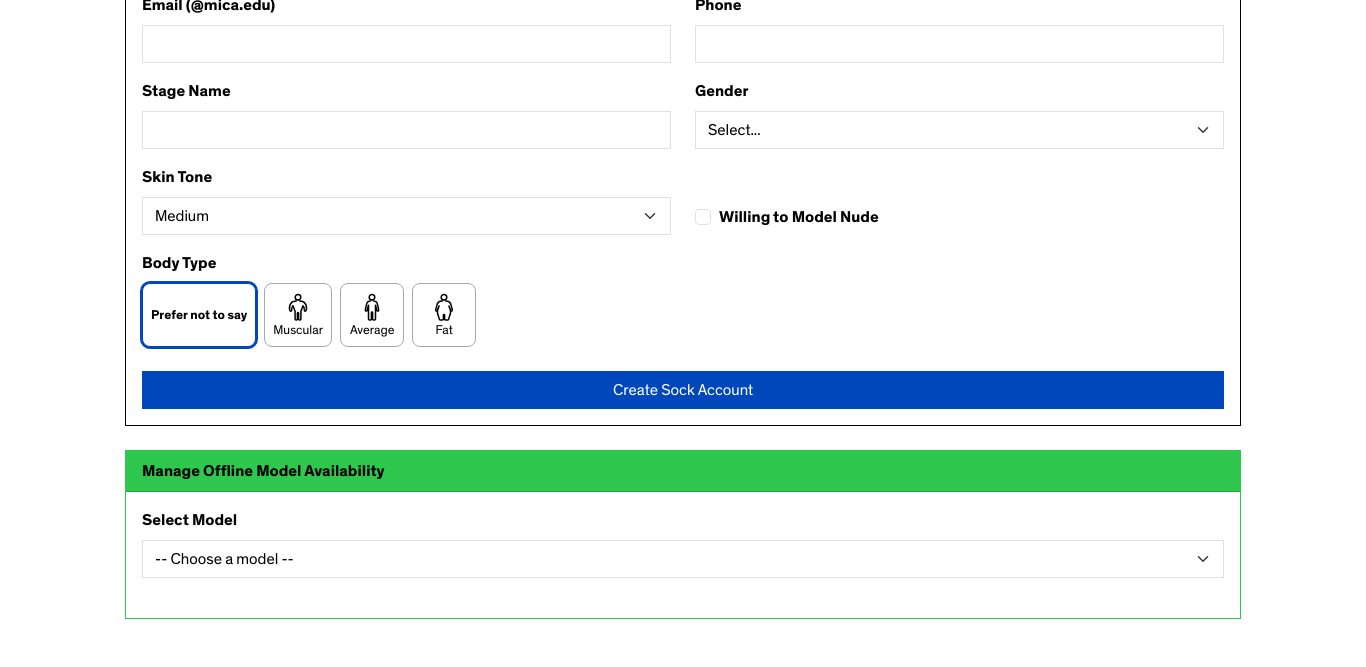
it: SuperUserPanel › names every control in the availability manager
(page scrolled)
Select "Jordan Ellis" in the dropdown labelled "Select Model" at (683, 559), box [142,540,1224,578]
(page scrolled)
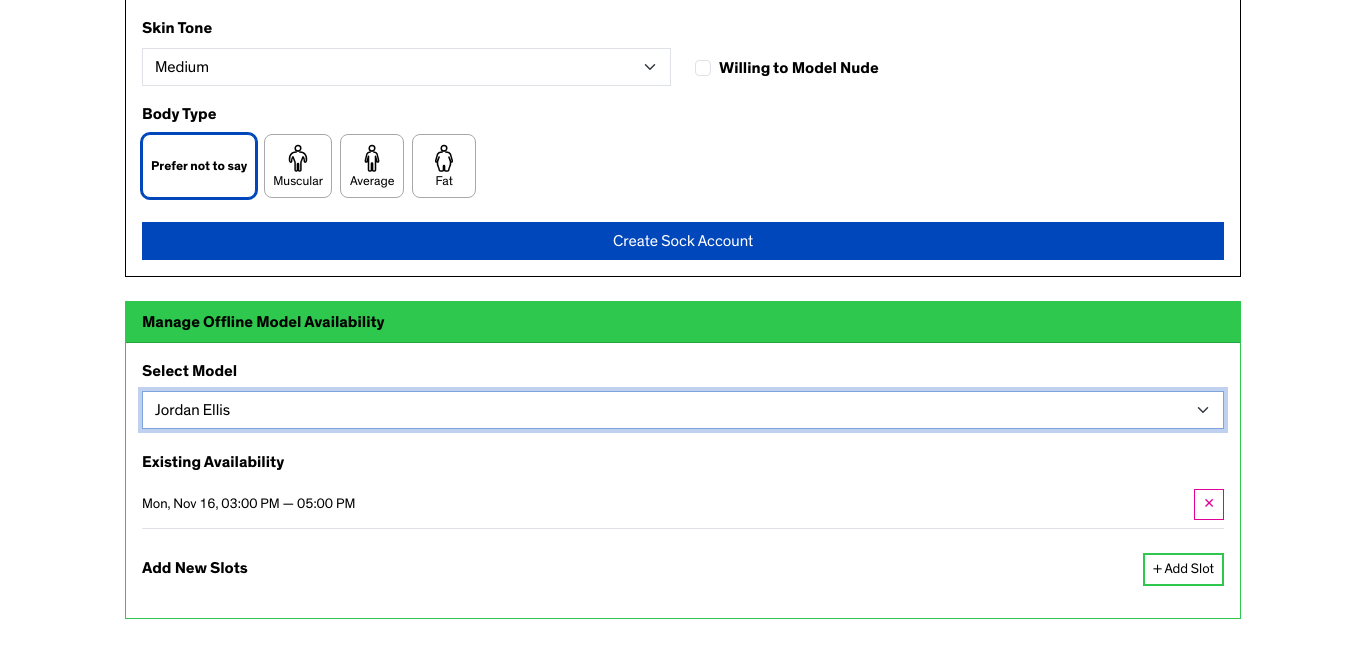
Check: the button named "Delete availability" is shown, box [1194,489,1224,520]
Click the button "+ Add Slot" at (1183, 569), box [1143,553,1224,586]
(page scrolled)
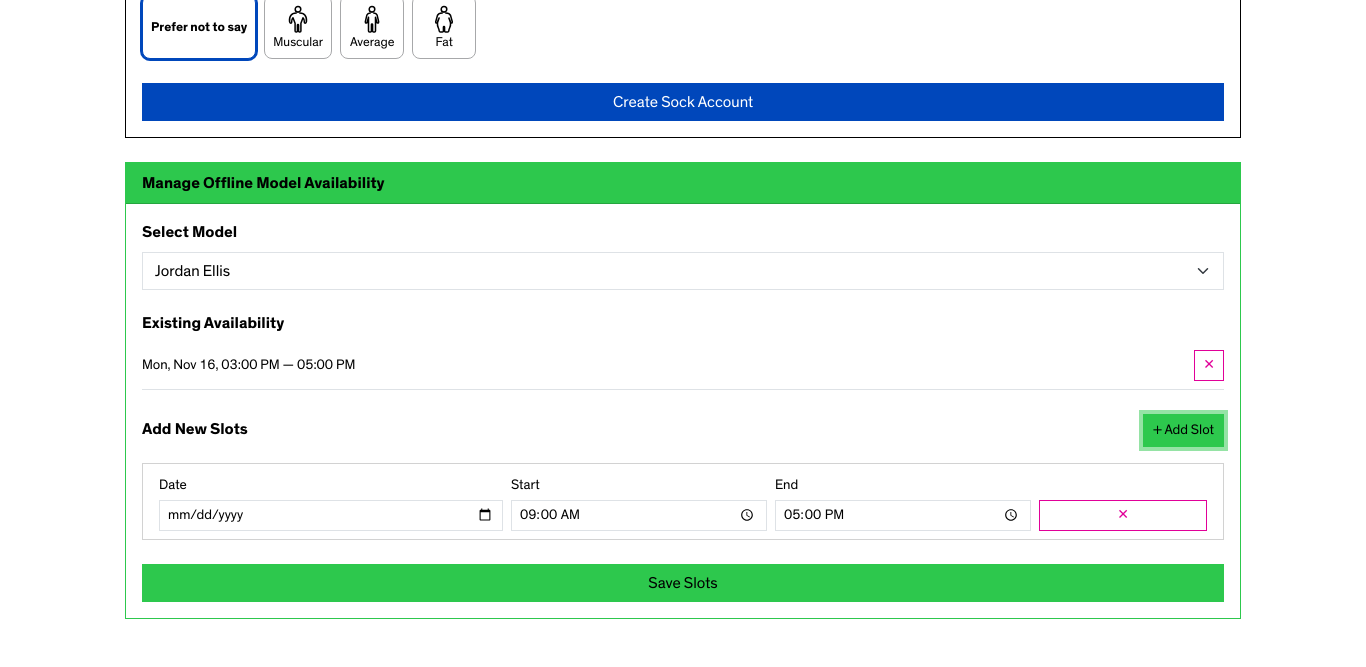
Check: the date field labelled "Date" is shown, box [159,500,503,531]
Check: the time field labelled "Start" is shown, box [511,500,767,531]
Check: the time field labelled "End" is shown, box [775,500,1031,531]
